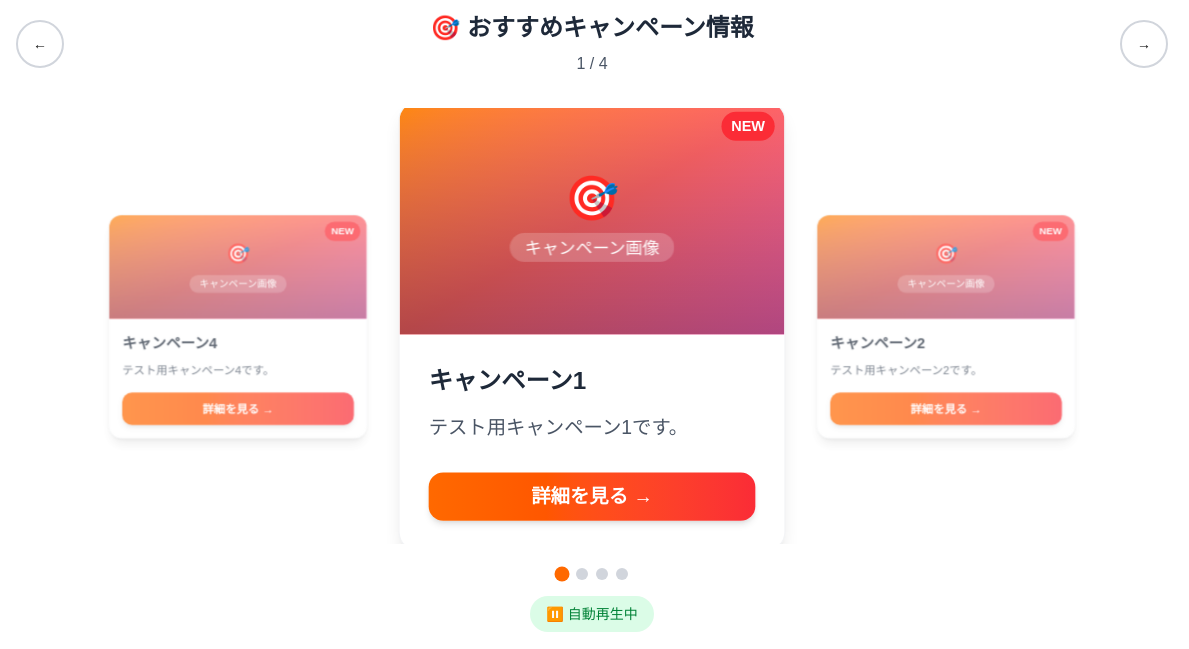
CampaignCarousel コンポーネント › 次へボタンをクリックすると次のスライドに移動する
What coordinates should you click on to do the following:
click the button "→"
I would click on:
 (1144, 44)
Its box is [1120,20,1168,68].
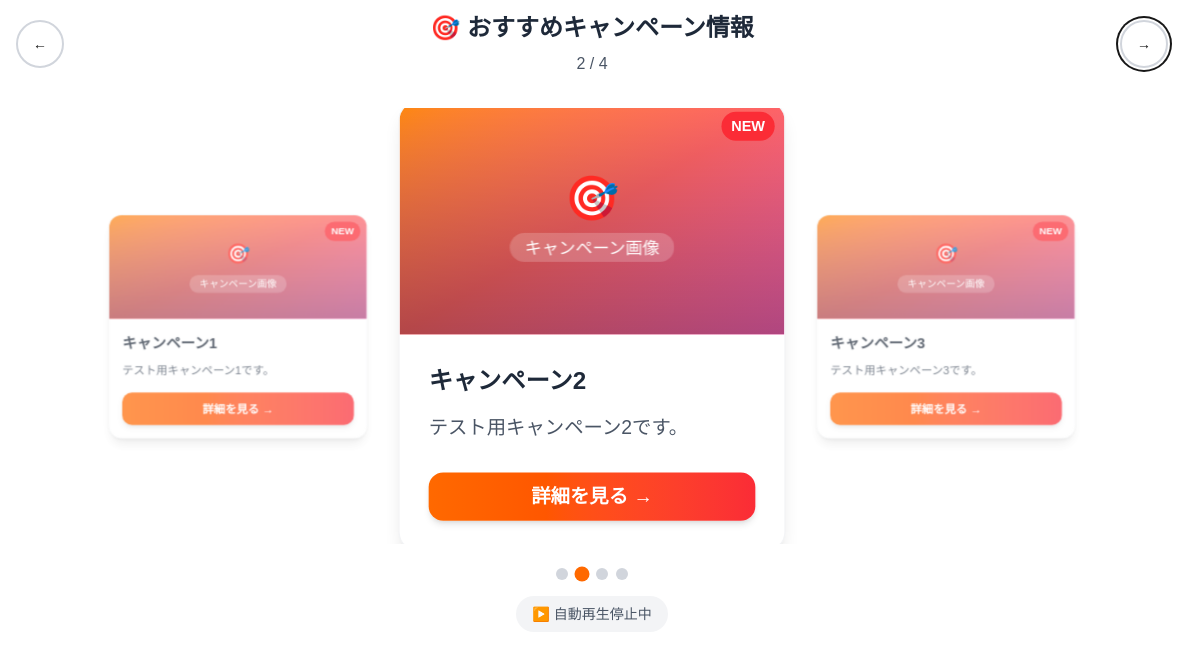
Expected: the text "2 / 4" is shown, [576,55,608,72]
